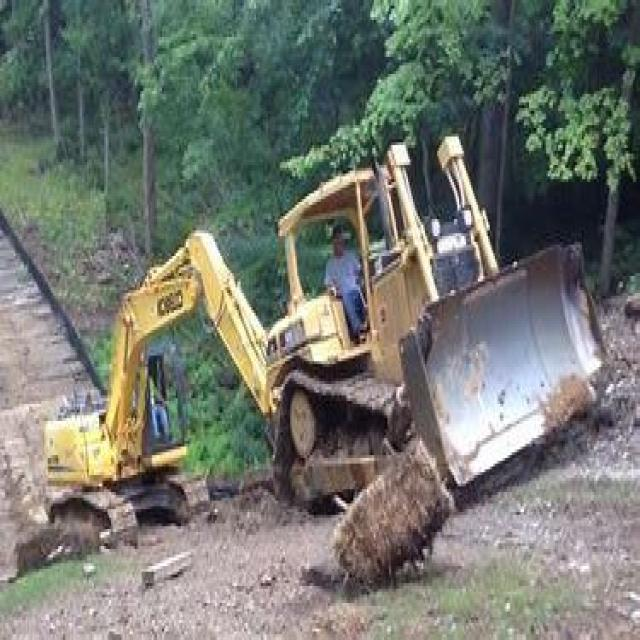buldozerpayloadergrader: (249, 108, 630, 523)
excavator: (46, 229, 266, 553)
